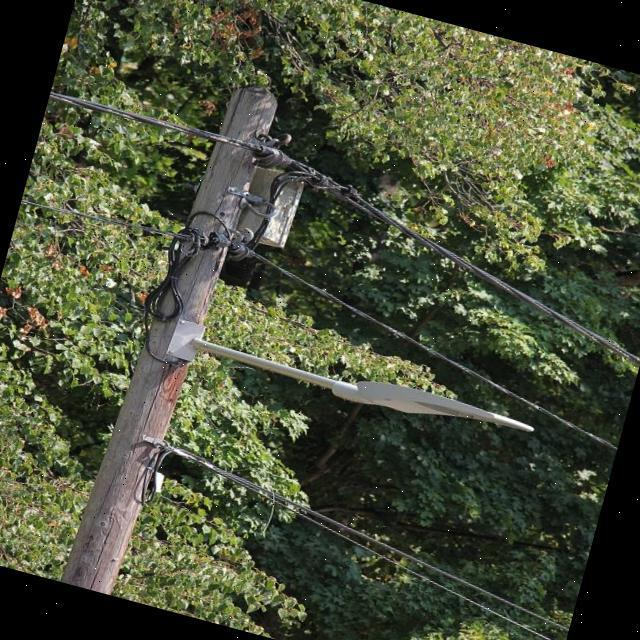critical vegetation: (25, 15, 392, 438)
